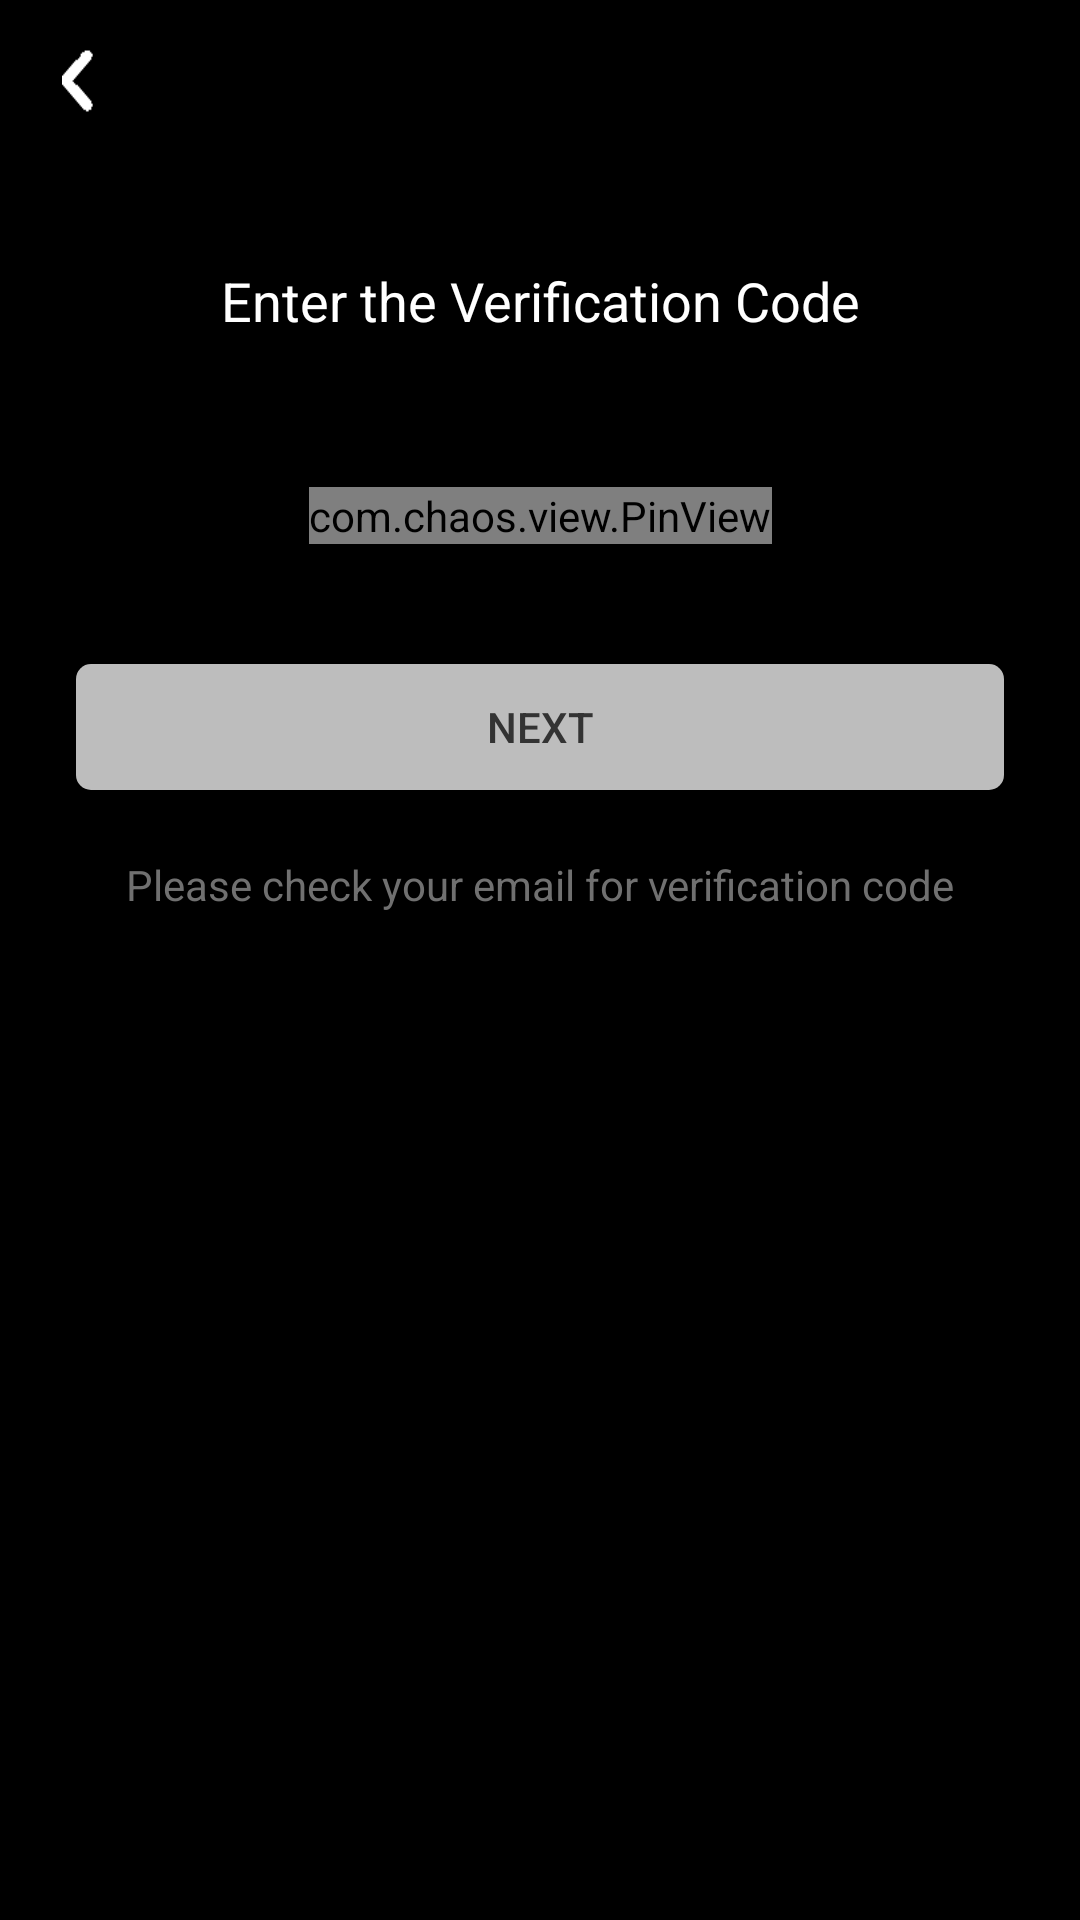

Icon bounding boxes for this 1080*1920 phone screenshot, format (x1, y1, x2, y2):
back: (62, 50, 93, 112)
